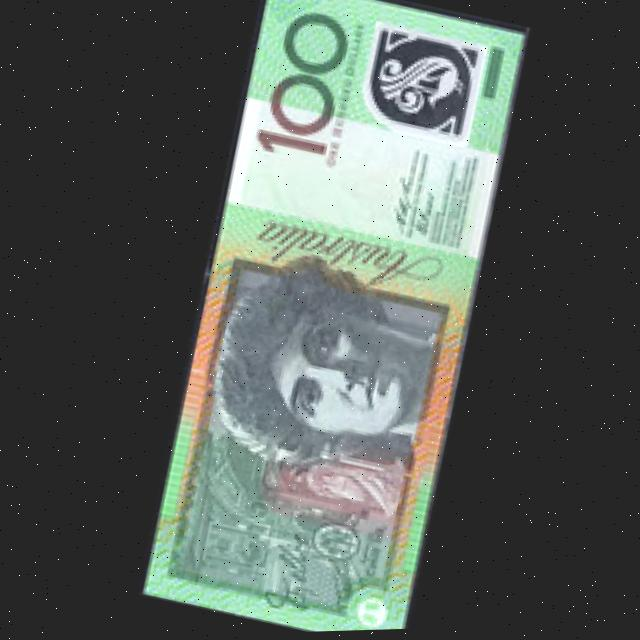banknote: (112, 0, 546, 637)
